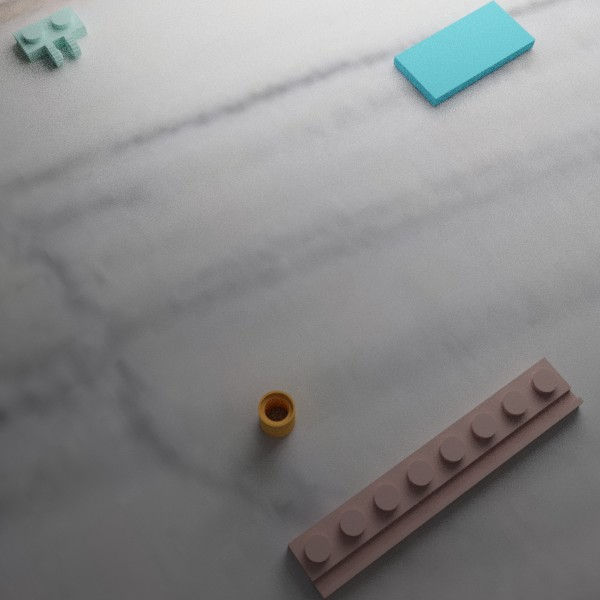lego: (287, 357, 584, 599), (393, 0, 535, 106), (12, 5, 87, 67), (257, 390, 295, 437)
